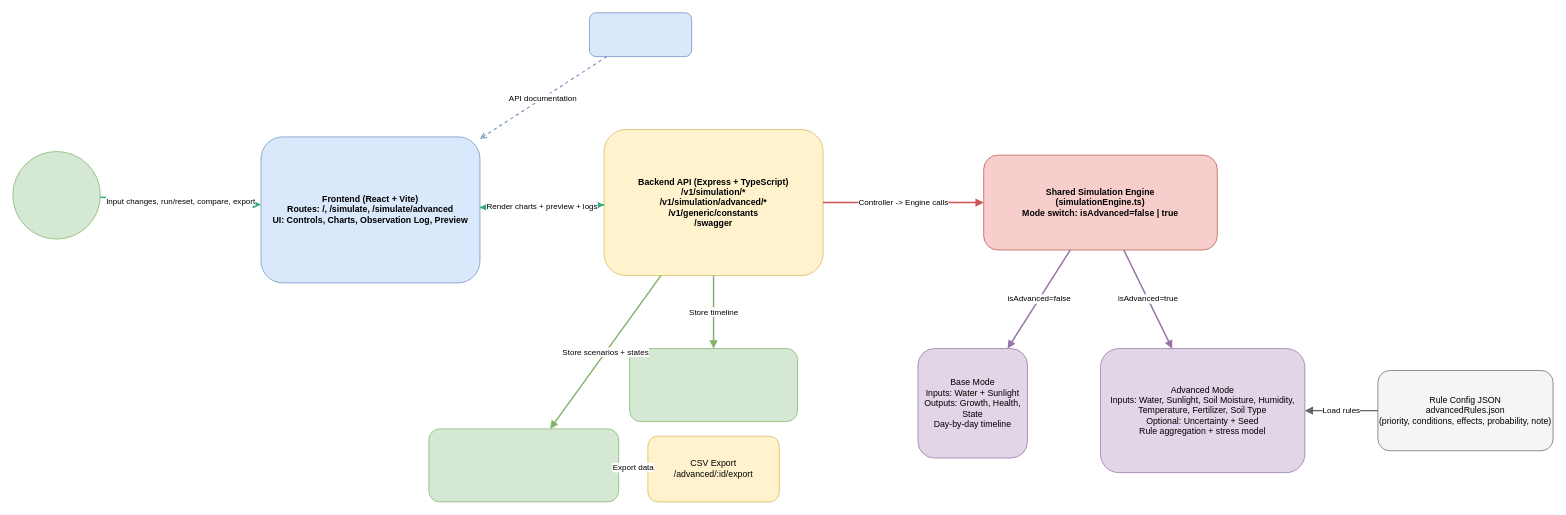
This 1566x515 diagram has some shape labels left out. Here are the shapes that lost their labels. From the top down, the centre of each, then its label:
point 640,34: Swagger Docs /swagger
point 56,195: User (Farmer / Analyst)
point 713,385: In-memory Base Store simulationStore (simulations + states)
point 523,465: In-memory Advanced Store advancedSimulationStore (scenarios + timelines)
